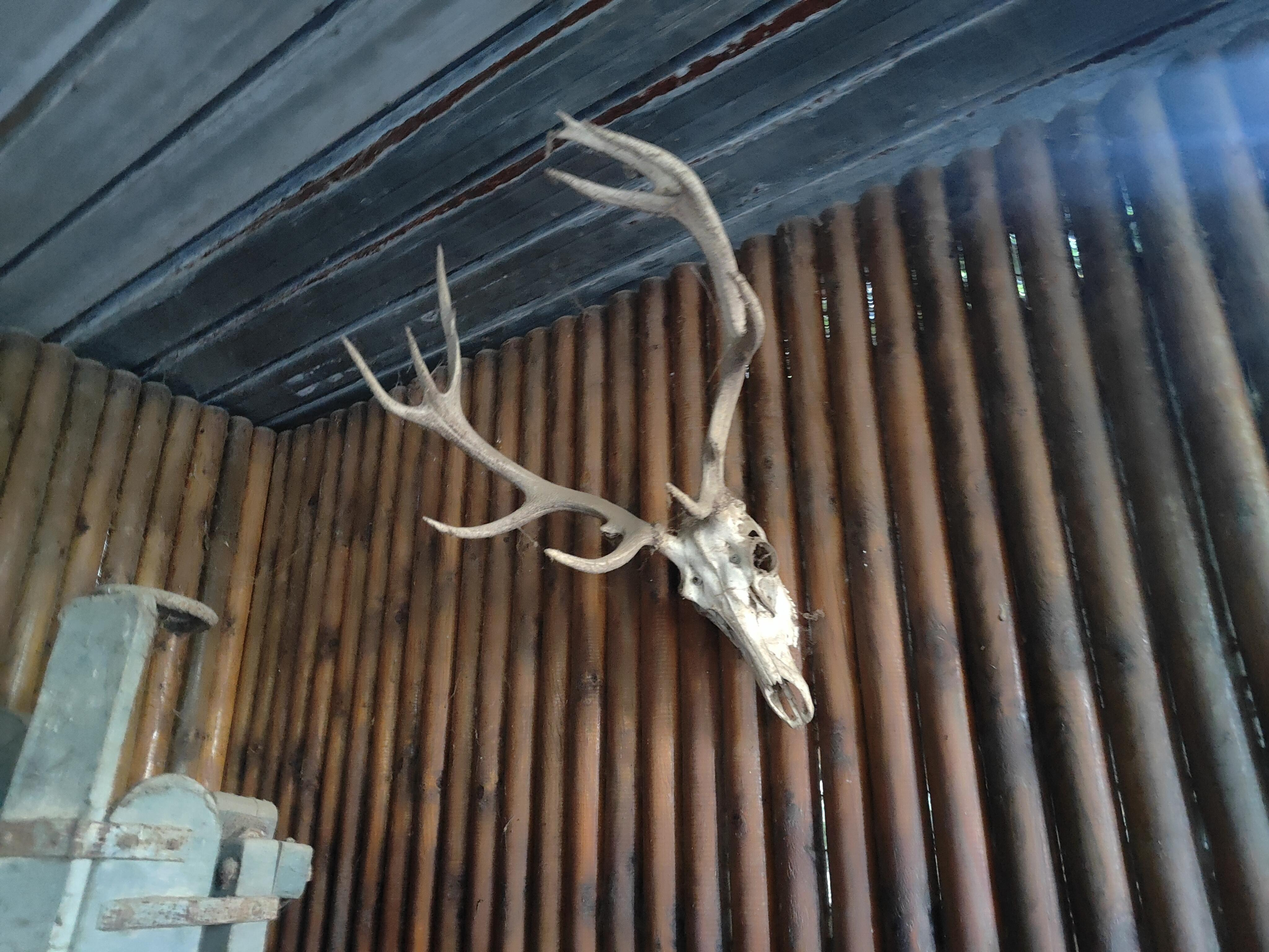dog: (341, 110, 814, 732)
